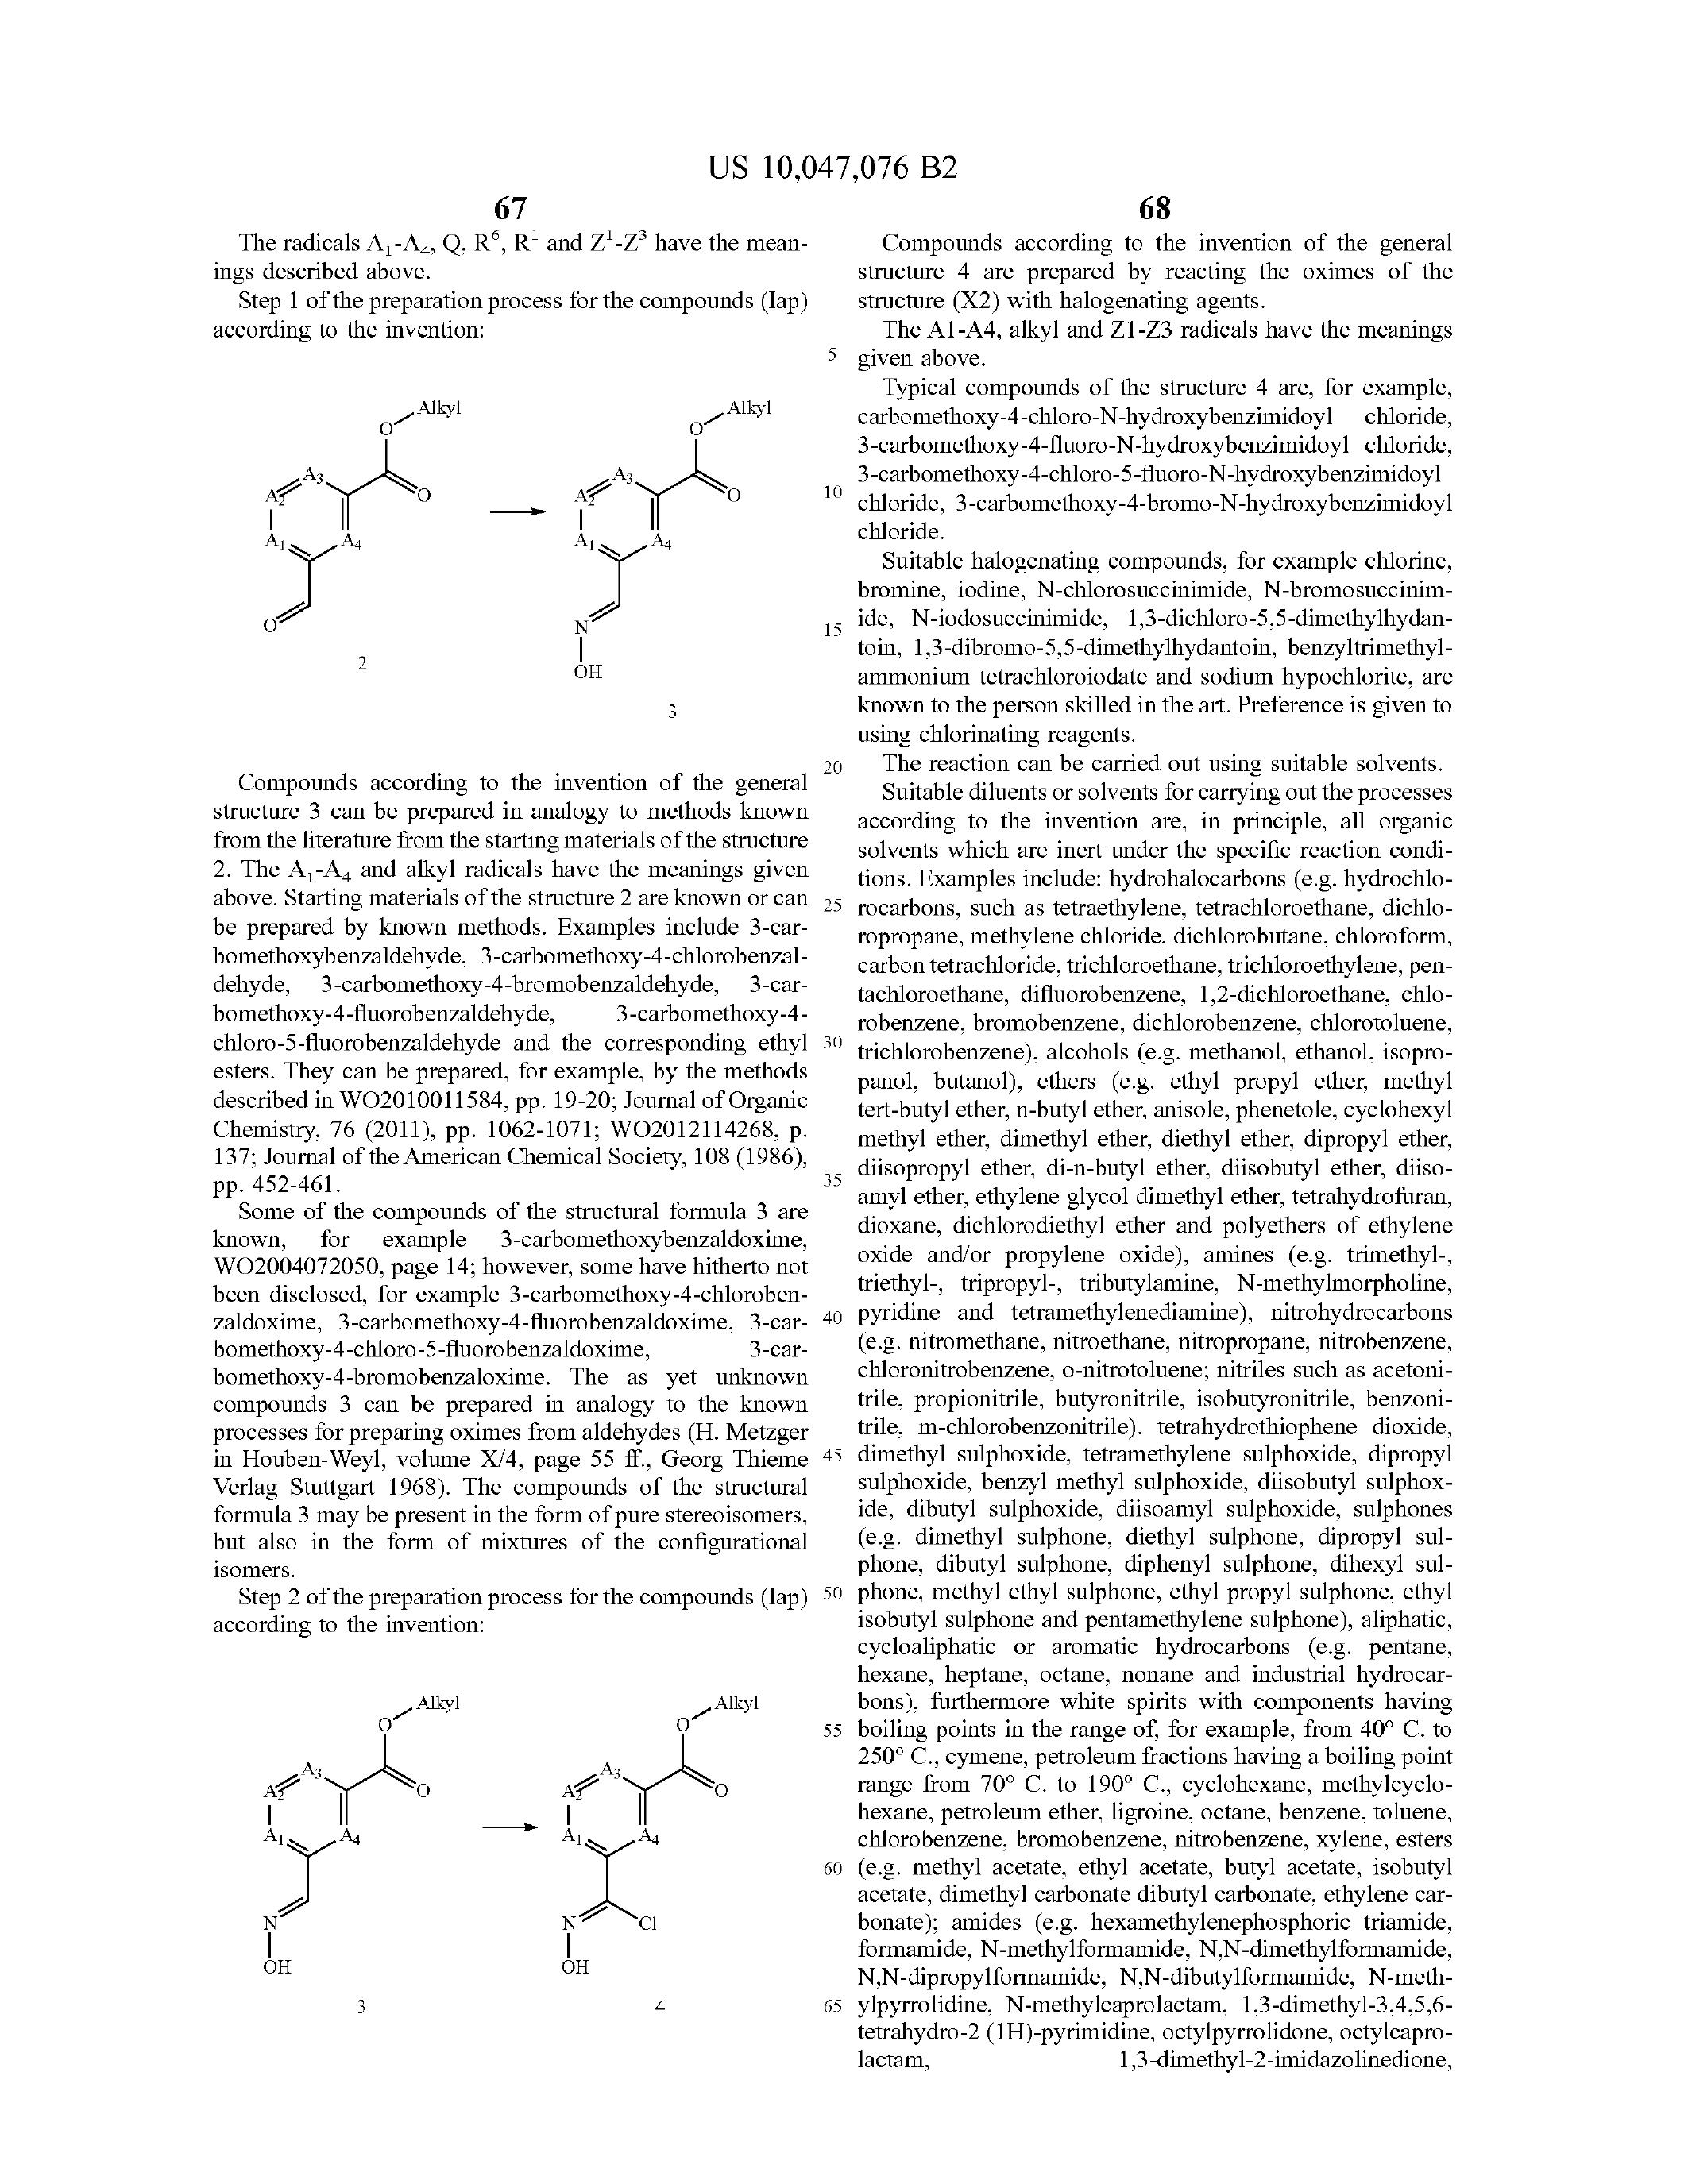substitutes: (80, 1650, 759, 2014), (90, 358, 787, 702)
